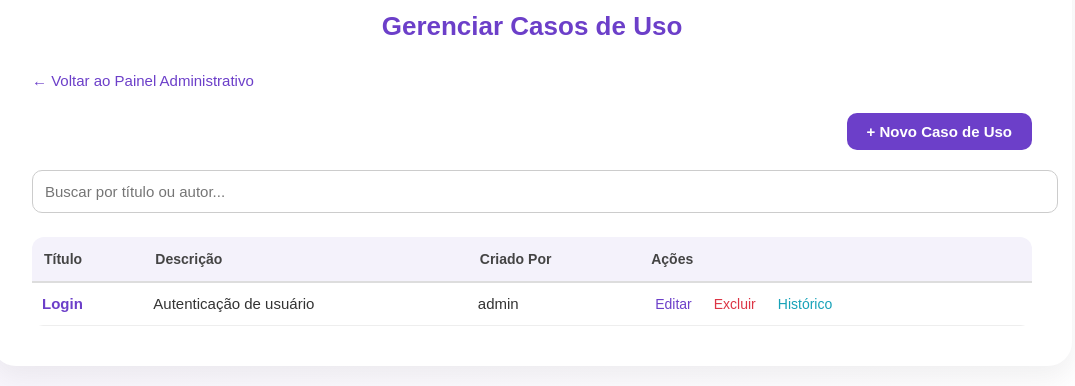
Test: AdminUseCases › executa busca corretamente
The width and height of the screenshot is (1075, 386).
Expected: the link "Login" is shown, x1=42 y1=295 x2=83 y2=312
Type "inexistente" into the field with placeholder "Buscar por título ou autor..." at [545, 191], box x1=32 y1=170 x2=1058 y2=213
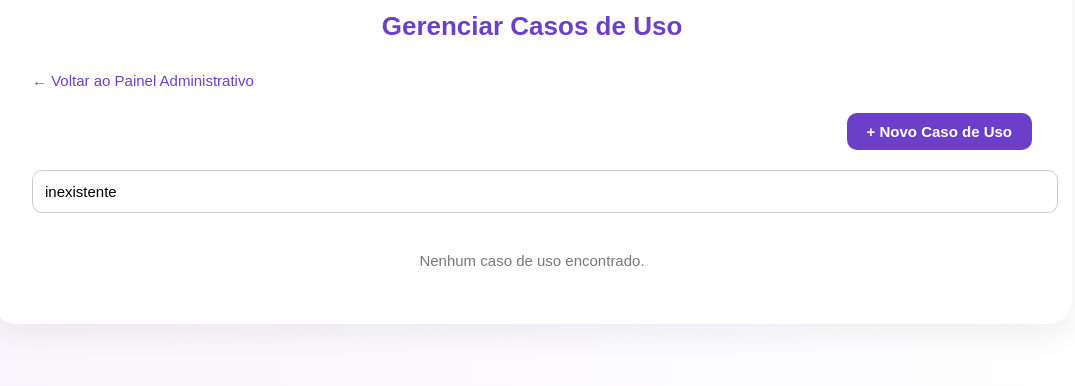
Expected: the link "Login" is gone
